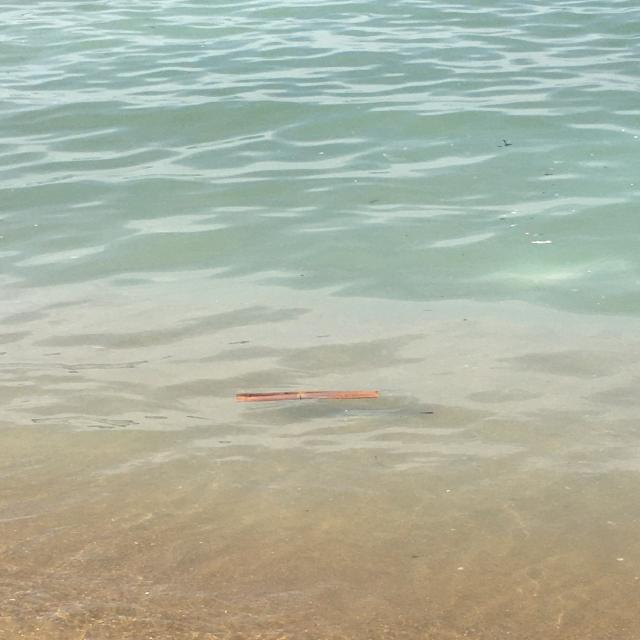Wood: (233, 388, 383, 404)
